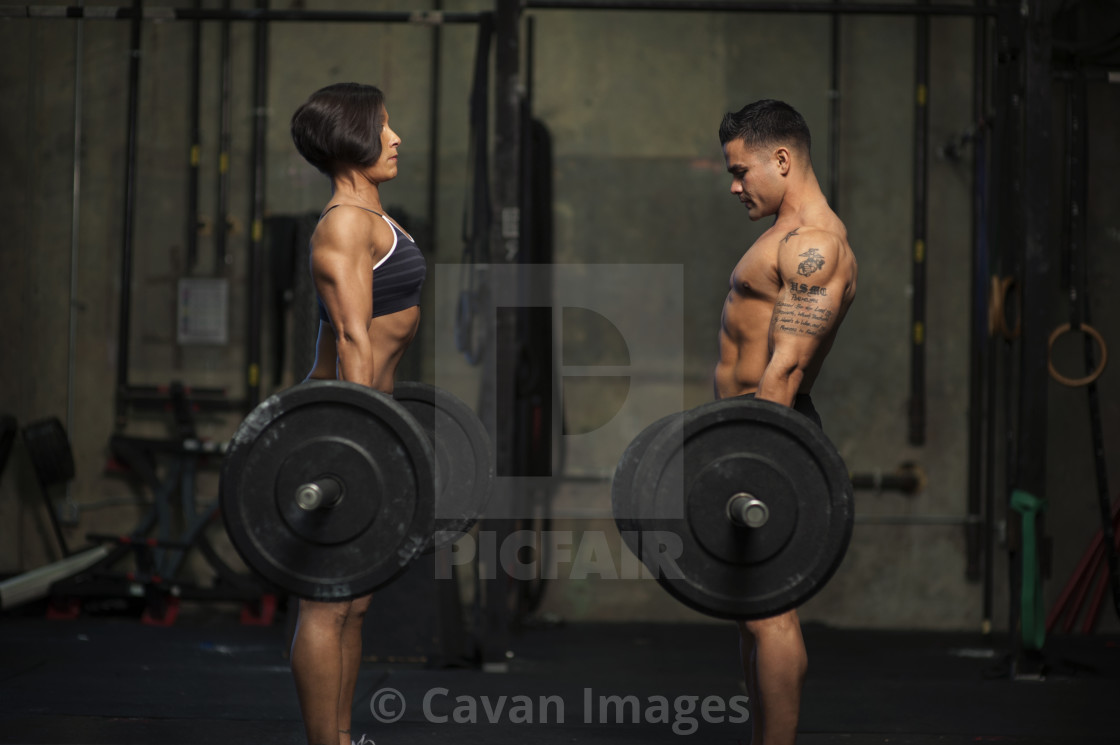barbell: (628, 396, 865, 626), (217, 379, 443, 599)
